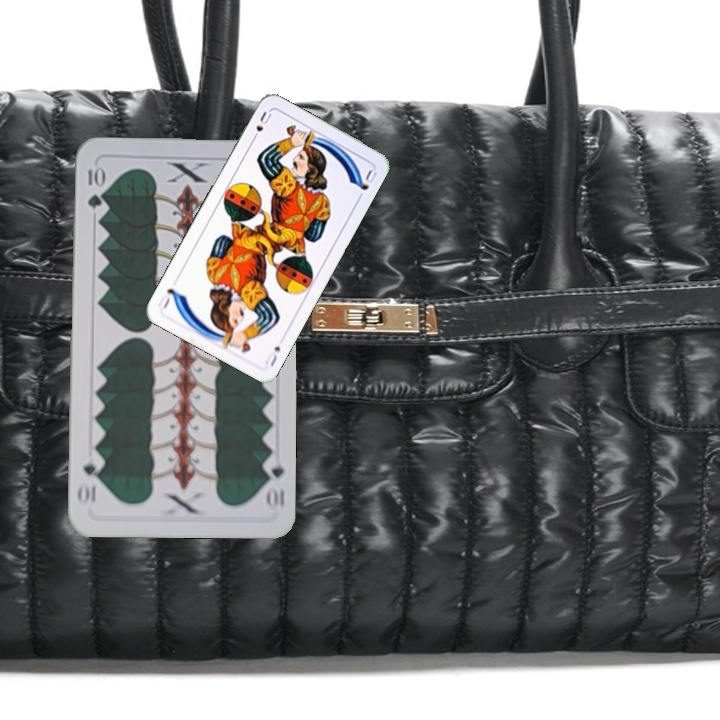G10: (260, 453, 287, 512), (84, 163, 104, 212)
SU: (248, 107, 274, 144), (261, 342, 283, 369)
